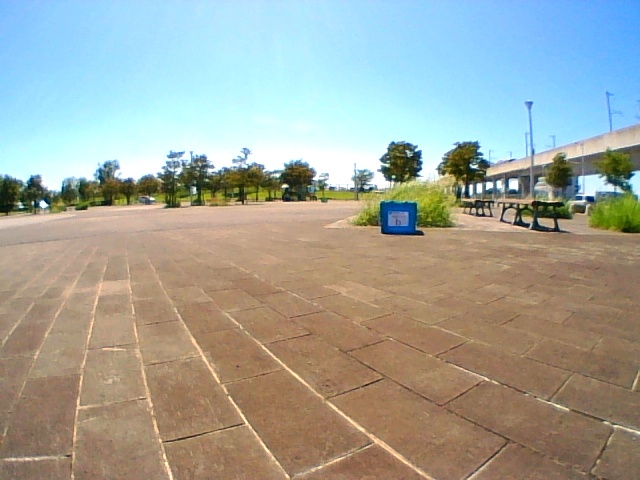blue_box: (381, 202, 416, 235)
tag_b: (389, 212, 407, 227)
